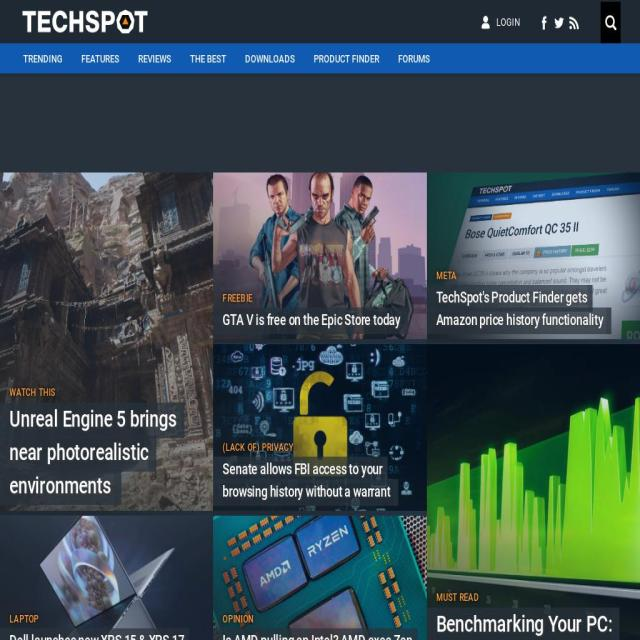button: (0, 173, 214, 515), (426, 344, 640, 640), (213, 172, 427, 344), (426, 172, 640, 344), (213, 344, 427, 515), (0, 516, 214, 640), (213, 516, 427, 640), (22, 0, 149, 42), (303, 44, 389, 74), (472, 2, 526, 43), (234, 44, 305, 74), (535, 2, 586, 43), (12, 44, 72, 74), (70, 44, 130, 74), (180, 44, 237, 74), (128, 44, 182, 74), (388, 44, 440, 74), (601, 2, 621, 43)
heading: (9, 439, 149, 499), (222, 460, 390, 500), (436, 288, 604, 328), (436, 611, 612, 637), (9, 406, 177, 432), (222, 311, 402, 328), (9, 613, 202, 625), (223, 613, 415, 625), (436, 270, 628, 282), (9, 387, 202, 398), (223, 293, 415, 304), (223, 442, 415, 453), (436, 592, 628, 603), (222, 631, 413, 640), (9, 631, 181, 640)
iframe: (92, 85, 548, 160)
text: (497, 16, 522, 28), (522, 16, 526, 28)
